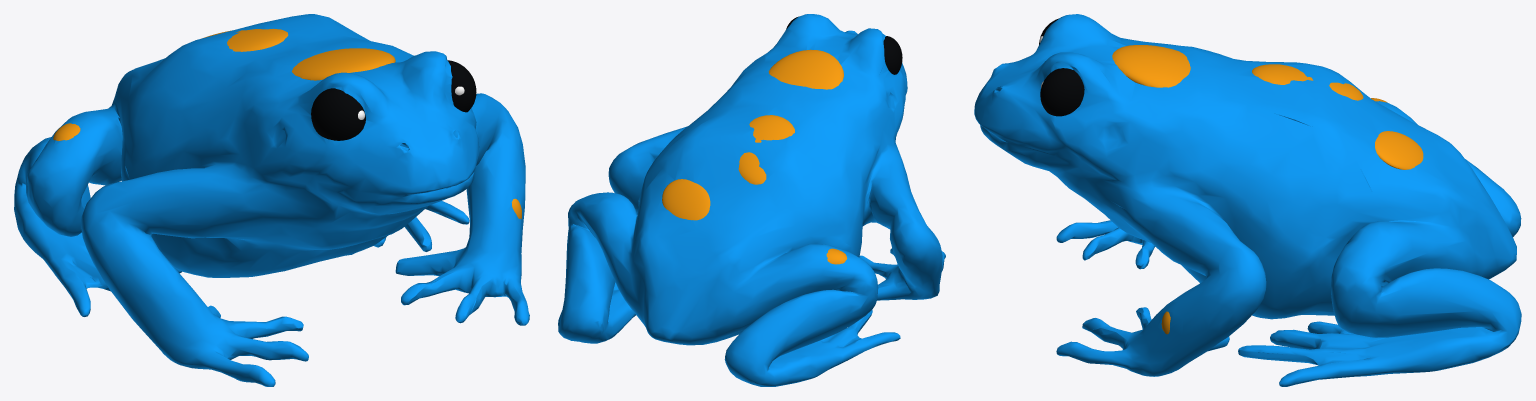
File: rana.glb
The picture shows the model from 3 angles, left to right: view 1: azimuth 30°, elevation 25°; view 2: azimuth 150°, elevation 25°; view 3: azimuth 270°, elevation 25°; orthographic projection. The views are drawn at different scales.
Parts seen in each view (by area): view 1: Object_5, Object_2, Object_4; view 2: Object_5, Object_2, Object_4; view 3: Object_5, Object_2, Object_4.
Boxes of the visible parts, x1,y1,x2,y2 form: Object_5: [14, 14, 529, 386]; Object_2: [53, 28, 521, 219]; Object_4: [311, 60, 476, 140]; Object_5: [558, 14, 945, 386]; Object_2: [662, 49, 847, 264]; Object_4: [786, 16, 902, 74]; Object_5: [974, 14, 1521, 386]; Object_2: [1112, 45, 1423, 334]; Object_4: [1039, 18, 1084, 116].
Size of the model in its own units: 235 by 153 by 282.
